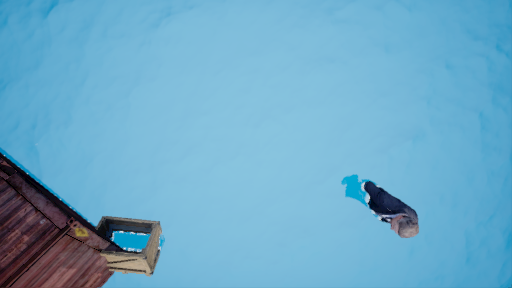person: (338, 178, 430, 236)
